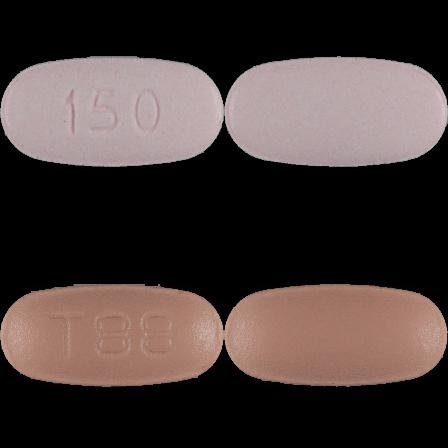10544-855: (0, 0, 224, 224)
